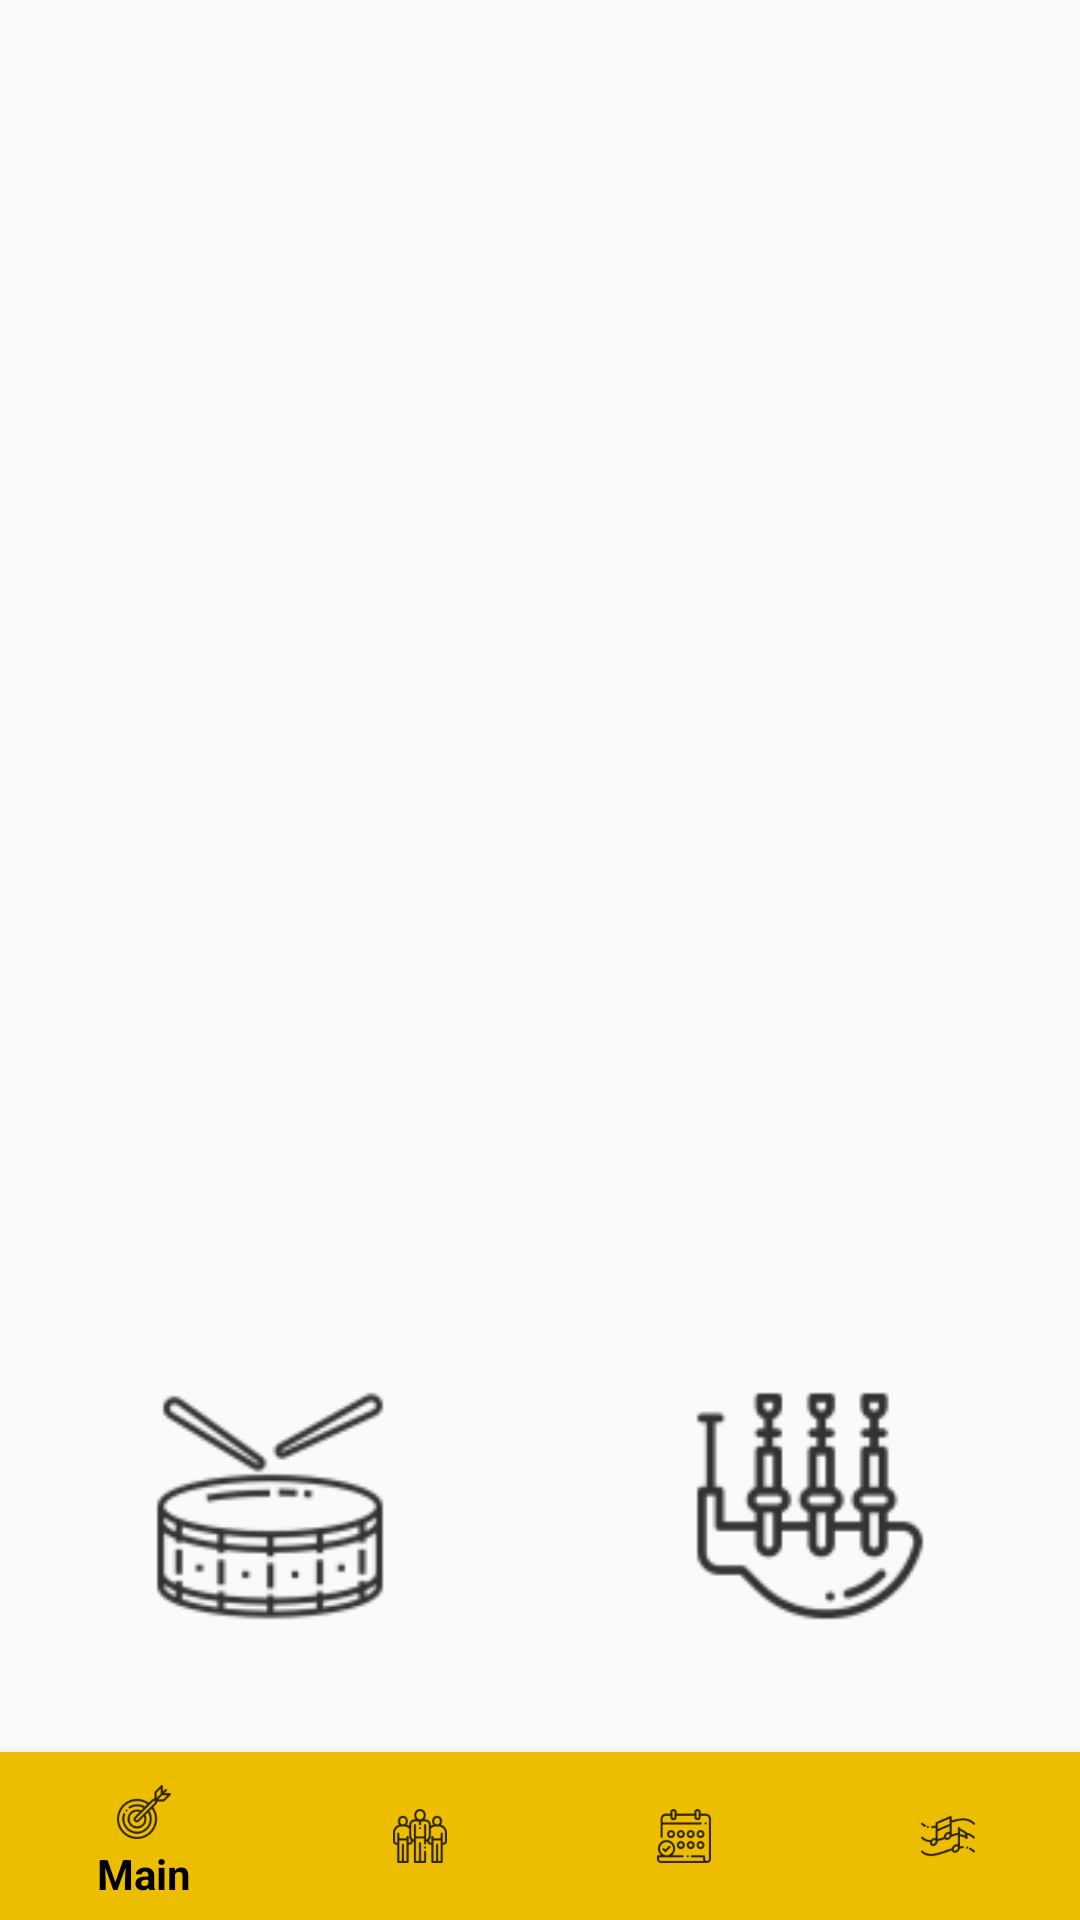

Icon bounding boxes for this 1080w x 1920h phone screenshot, format (x1, y1, x2, y2):
drum: (156, 1393, 384, 1620)
pipes: (696, 1392, 924, 1620)
